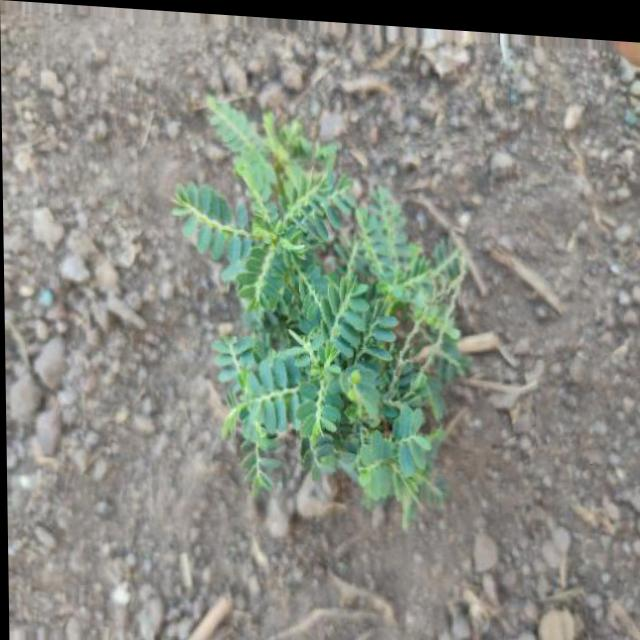weed: (164, 83, 468, 499)
